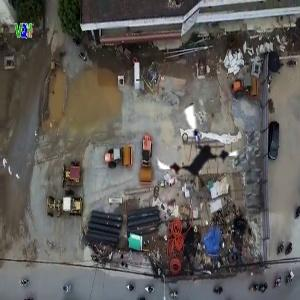drone: (152, 104, 244, 196)
